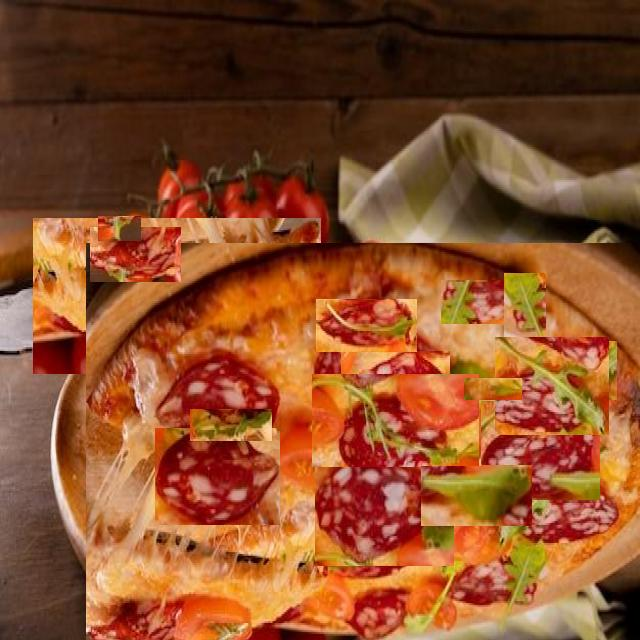basil: (312, 374, 479, 467), (495, 337, 609, 435), (421, 466, 532, 526), (416, 253, 466, 322), (504, 273, 546, 337), (190, 409, 272, 441), (464, 378, 522, 400), (98, 216, 141, 241)
pepperoni: (315, 450, 454, 566), (155, 428, 280, 525), (481, 402, 600, 502), (341, 351, 450, 447), (510, 341, 617, 400), (316, 299, 417, 352), (90, 227, 181, 282), (441, 280, 539, 324), (346, 244, 410, 292)
pizza: (86, 243, 640, 640), (33, 218, 321, 374)
